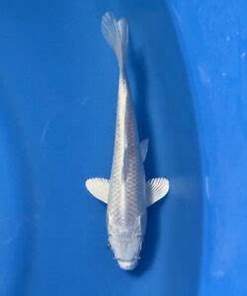white: (85, 13, 170, 271)
